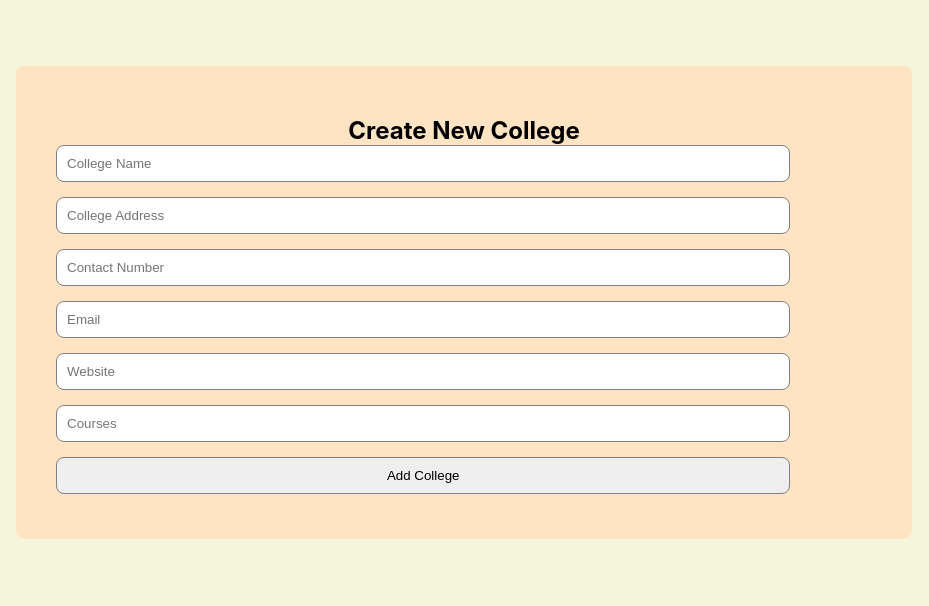
CollegeForm Component › frontend_collegeform_admin_component_displays_required_validation_messages
Step 1. Click the button "Add College" → {"x": 423, "y": 475}, box x1=56 y1=456 x2=790 y2=494
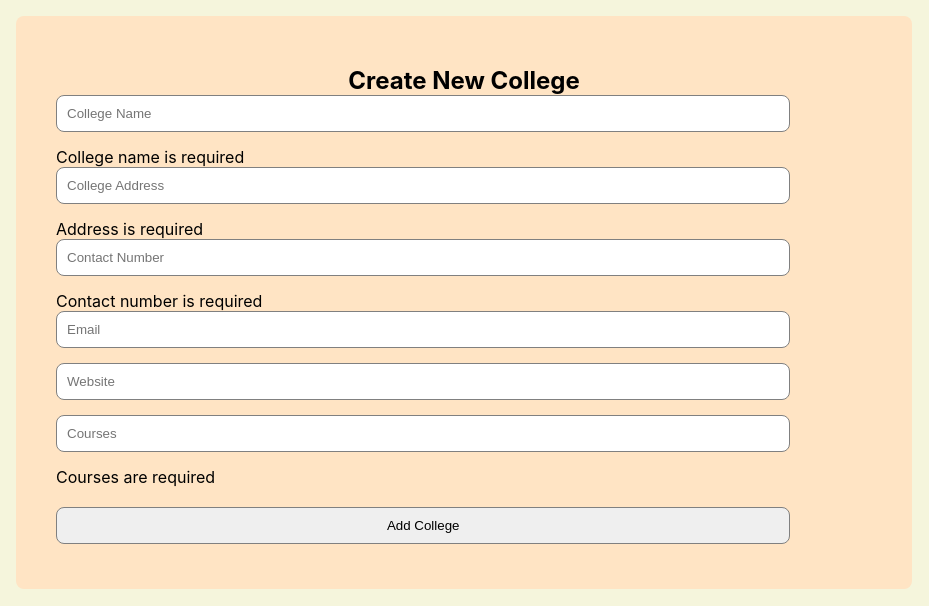
Check: the text "College name is required" is shown, box x1=56 y1=146 x2=244 y2=166
Check: the text "Address is required" is shown, box x1=56 y1=218 x2=203 y2=238
Check: the text "Contact number is required" is shown, box x1=56 y1=290 x2=262 y2=310
